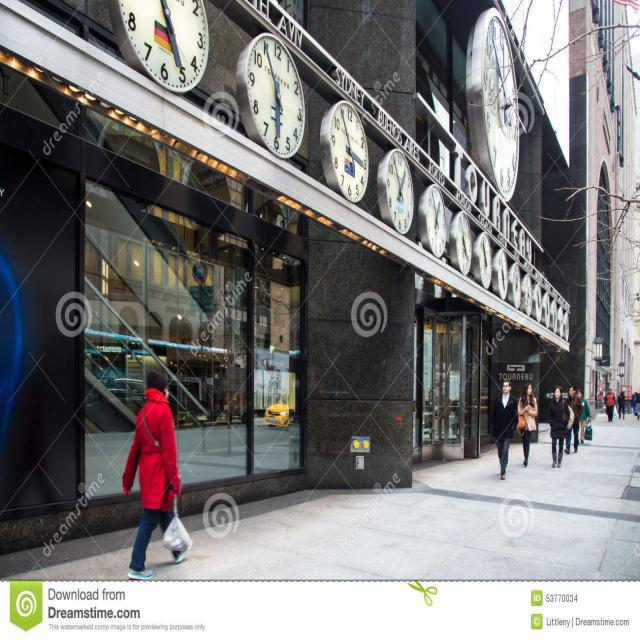body: (120, 369, 193, 583), (490, 377, 519, 482), (515, 381, 539, 468), (547, 383, 571, 469), (564, 384, 583, 455), (577, 389, 593, 444), (604, 386, 617, 426), (617, 391, 626, 420), (604, 387, 610, 417), (632, 391, 639, 416), (634, 392, 638, 404)
